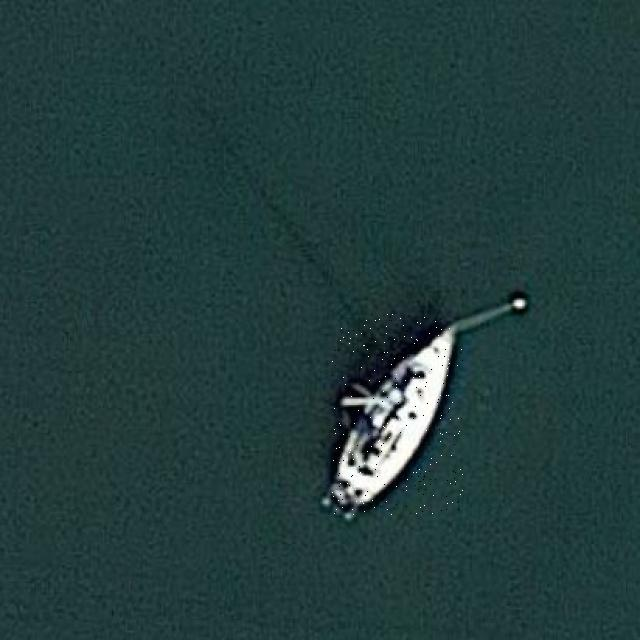boat: (332, 314, 463, 515)
